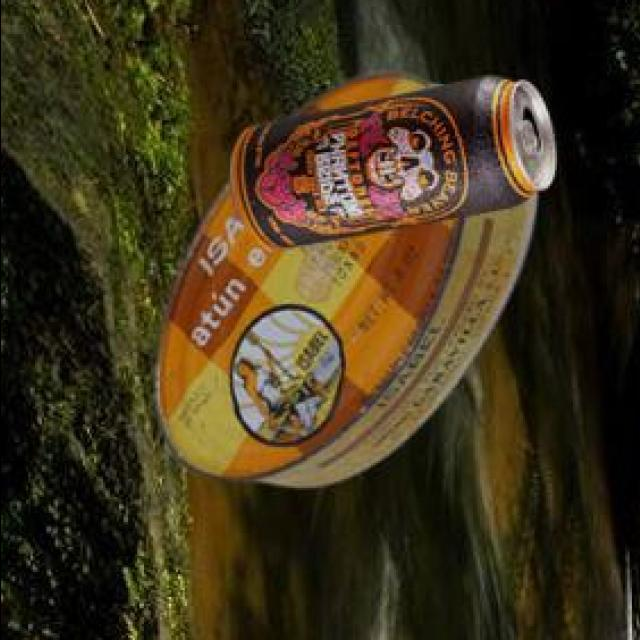logam: (158, 69, 539, 485), (233, 74, 557, 246)
